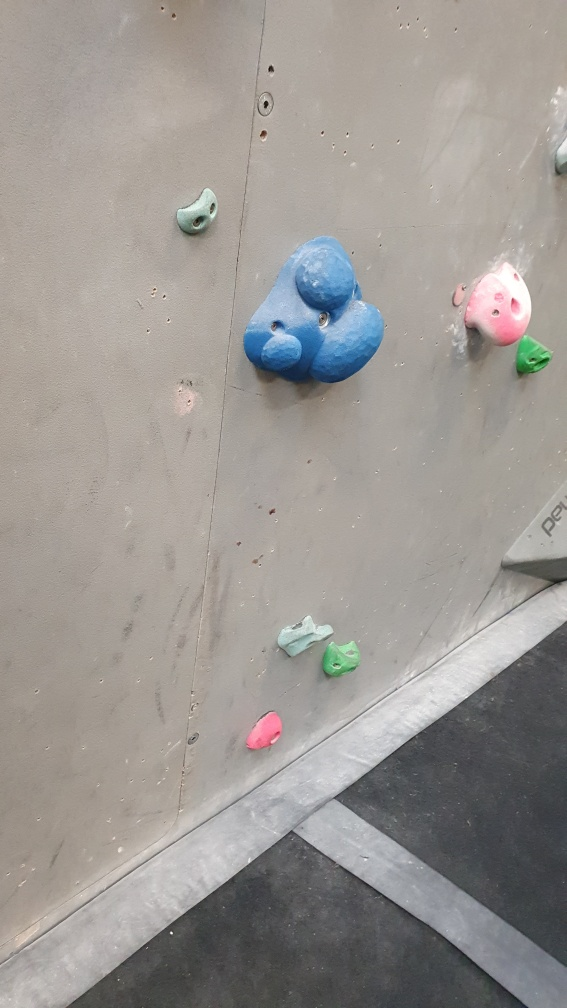Sloper: (239, 234, 392, 388)
